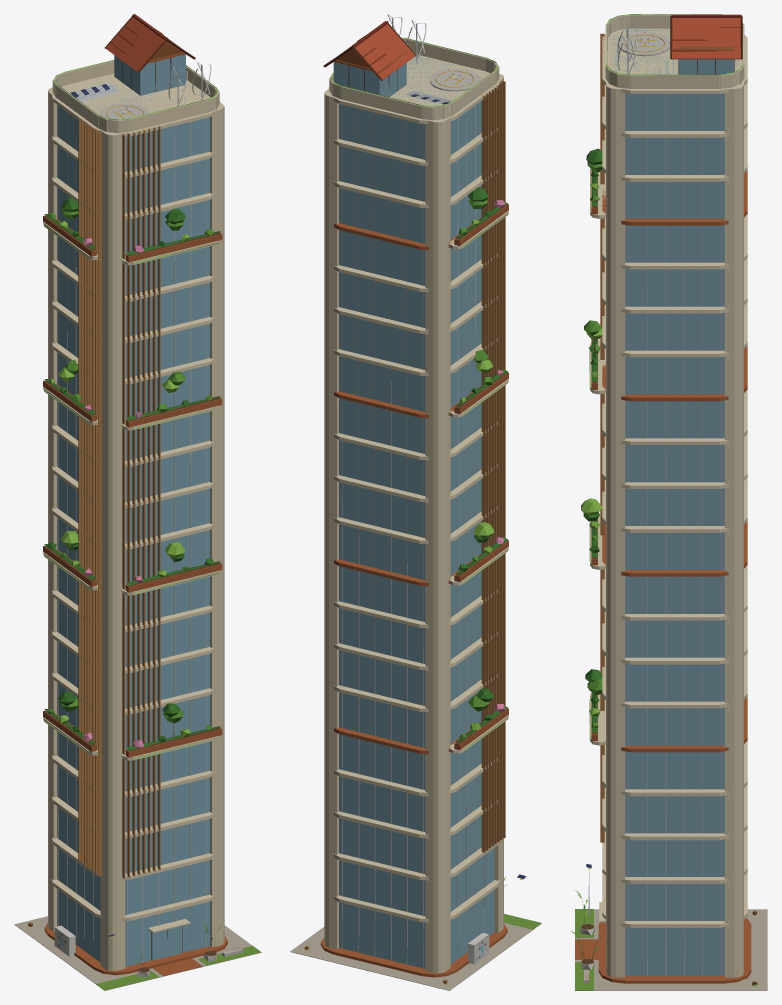
File: shop_4.glb
3 views of the same model, side by side, from view 1: azimuth 30°, elevation 25°; view 2: azimuth 150°, elevation 25°; view 3: azimuth 270°, elevation 25° (orthographic). The views are drawn at different scales.
Parts seen in each view (by area): view 1: body, windows; view 2: body, windows; view 3: body, windows.
Part boxes in pixels (x1,y1,x2,y2): body: [14, 14, 261, 990]; windows: [43, 60, 218, 945]; body: [290, 14, 541, 990]; windows: [330, 37, 523, 952]; body: [571, 14, 767, 990]; windows: [588, 14, 743, 869].
Size of the model in its own units: 15.9 by 86.89 by 16.29.
